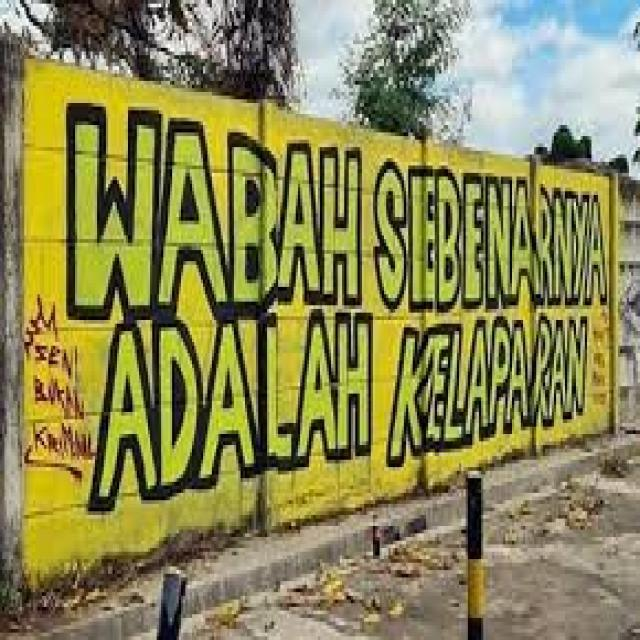-: (68, 100, 608, 511), (18, 288, 96, 478)
